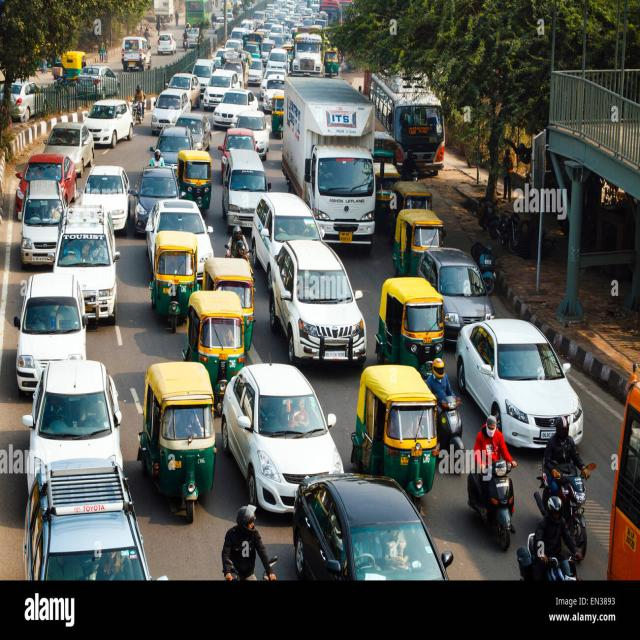plate: (325, 349, 348, 358), (339, 230, 353, 244), (410, 446, 422, 458), (31, 255, 47, 262), (170, 459, 181, 469), (218, 352, 230, 360), (422, 335, 432, 344), (496, 482, 510, 488), (570, 502, 586, 507), (221, 117, 232, 124), (163, 286, 171, 295), (450, 415, 457, 425), (210, 97, 220, 102), (195, 181, 202, 187), (416, 162, 426, 166), (128, 61, 136, 65), (248, 78, 256, 81), (162, 48, 168, 51)
